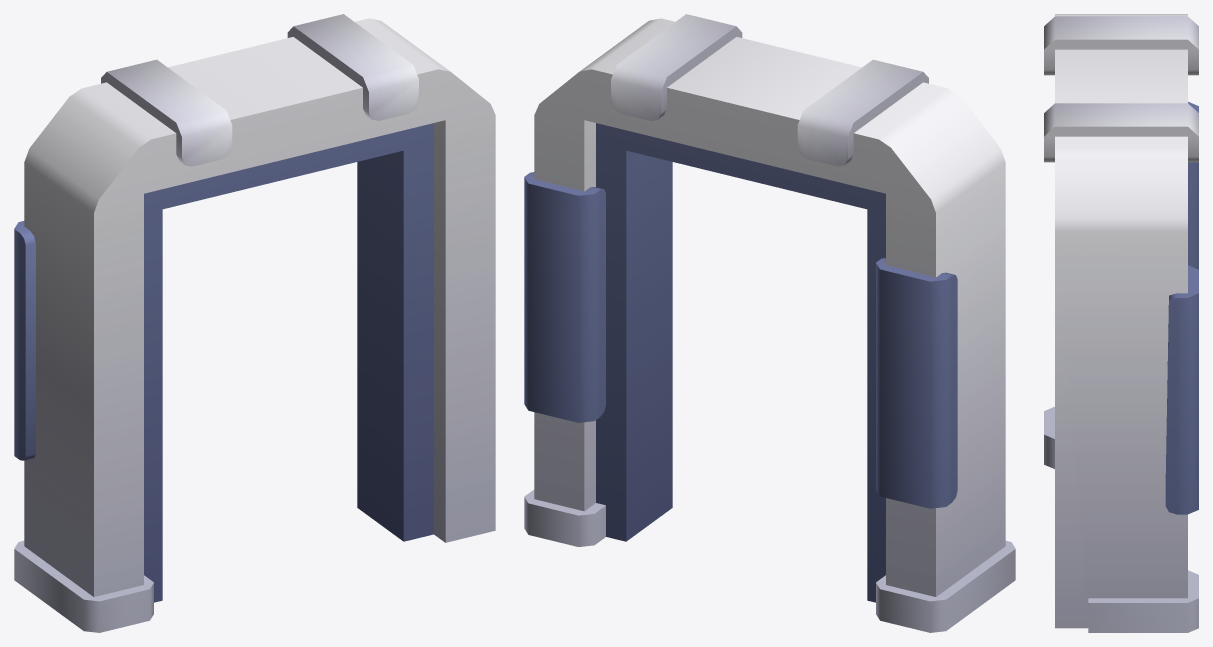
The model's file is os_airlock_frame.glb.
3 views of the same model, side by side, from view 1: azimuth 30°, elevation 25°; view 2: azimuth 150°, elevation 25°; view 3: azimuth 270°, elevation 25° (orthographic). The views are drawn at different scales.
Parts seen in each view (by area): view 1: gate; view 2: gate; view 3: gate.
Part boxes in pixels (x1,y1,x2,y2): gate: [14, 14, 495, 632]; gate: [524, 14, 1015, 632]; gate: [1044, 14, 1198, 632].
Bounding box in the file's own units: 3.61 × 3.97 × 1.2.
1 material, 1 textured.
